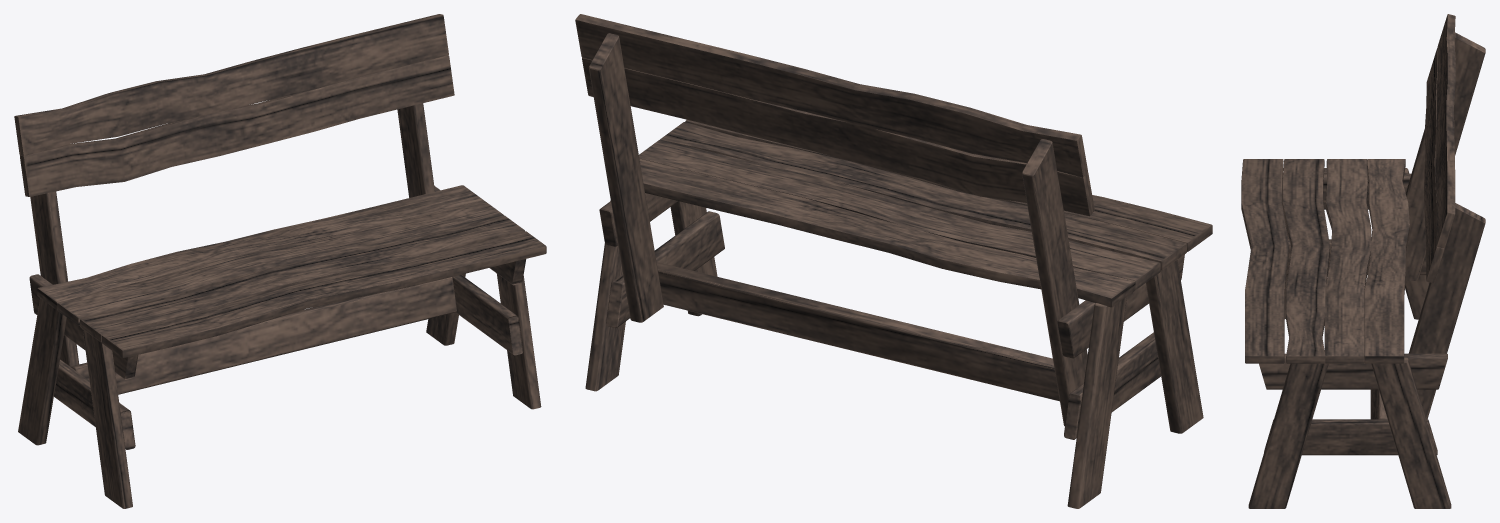
Rendered from Banco_Curto_NEC_CENA.fbx.
3 renders of one model, left to right at view 1: azimuth 30°, elevation 25°; view 2: azimuth 150°, elevation 25°; view 3: azimuth 270°, elevation 25°, orthographic. The views are drawn at different scales.
Visible parts, largest first — view 1: BancoCurto; view 2: BancoCurto; view 3: BancoCurto.
Part boxes in pixels (box(x1,y1,x2,y2)): BancoCurto: box(14, 14, 546, 508); BancoCurto: box(575, 14, 1212, 508); BancoCurto: box(1241, 14, 1485, 508).
Size of the model in its own units: 117 by 82.35 by 60.64.
1 material, 1 textured.
